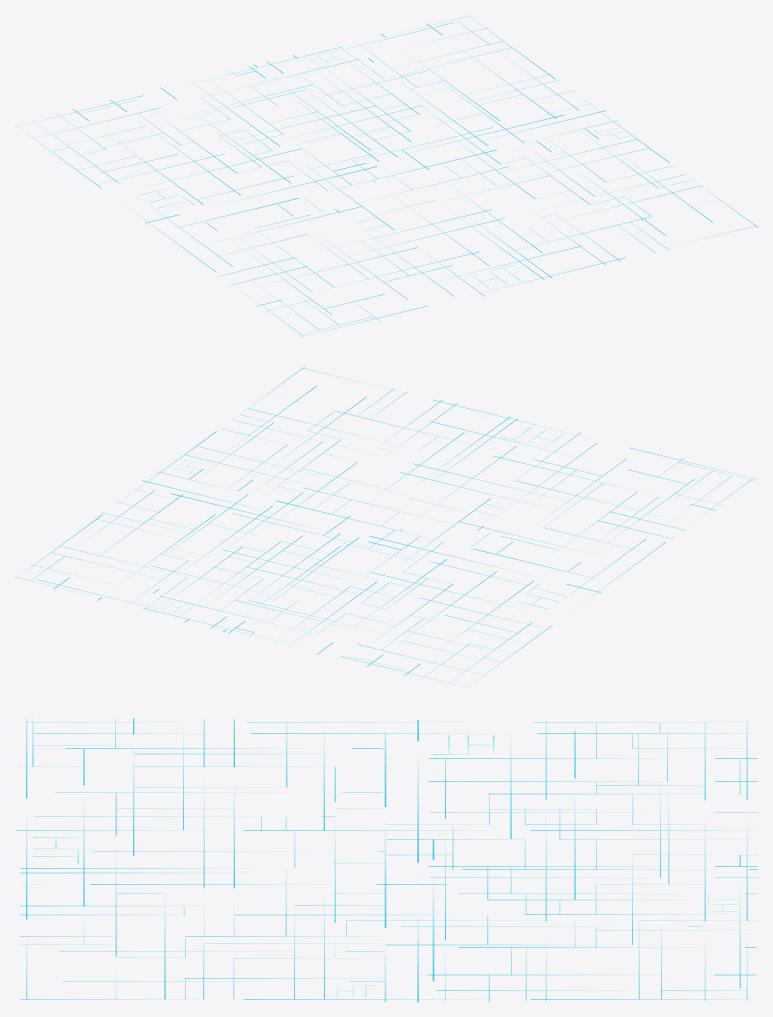
Rendered from HT科幻地面.gltf.
The picture shows the model from 3 angles, top to bottom: view 1: azimuth 30°, elevation 25°; view 2: azimuth 150°, elevation 25°; view 3: azimuth 270°, elevation 25°; orthographic projection. The views are drawn at different scales.
Visible parts, largest first — view 1: polySurface136; view 2: polySurface136; view 3: polySurface136.
Boxes of the visible parts, x1=… form: polySurface136: x1=16, y1=15, x2=758, y2=336; polySurface136: x1=15, y1=366, x2=754, y2=687; polySurface136: x1=16, y1=718, x2=757, y2=1002.
Size of the model in its own units: 20028 by 12.34 by 22175.
1 material, 1 textured.
